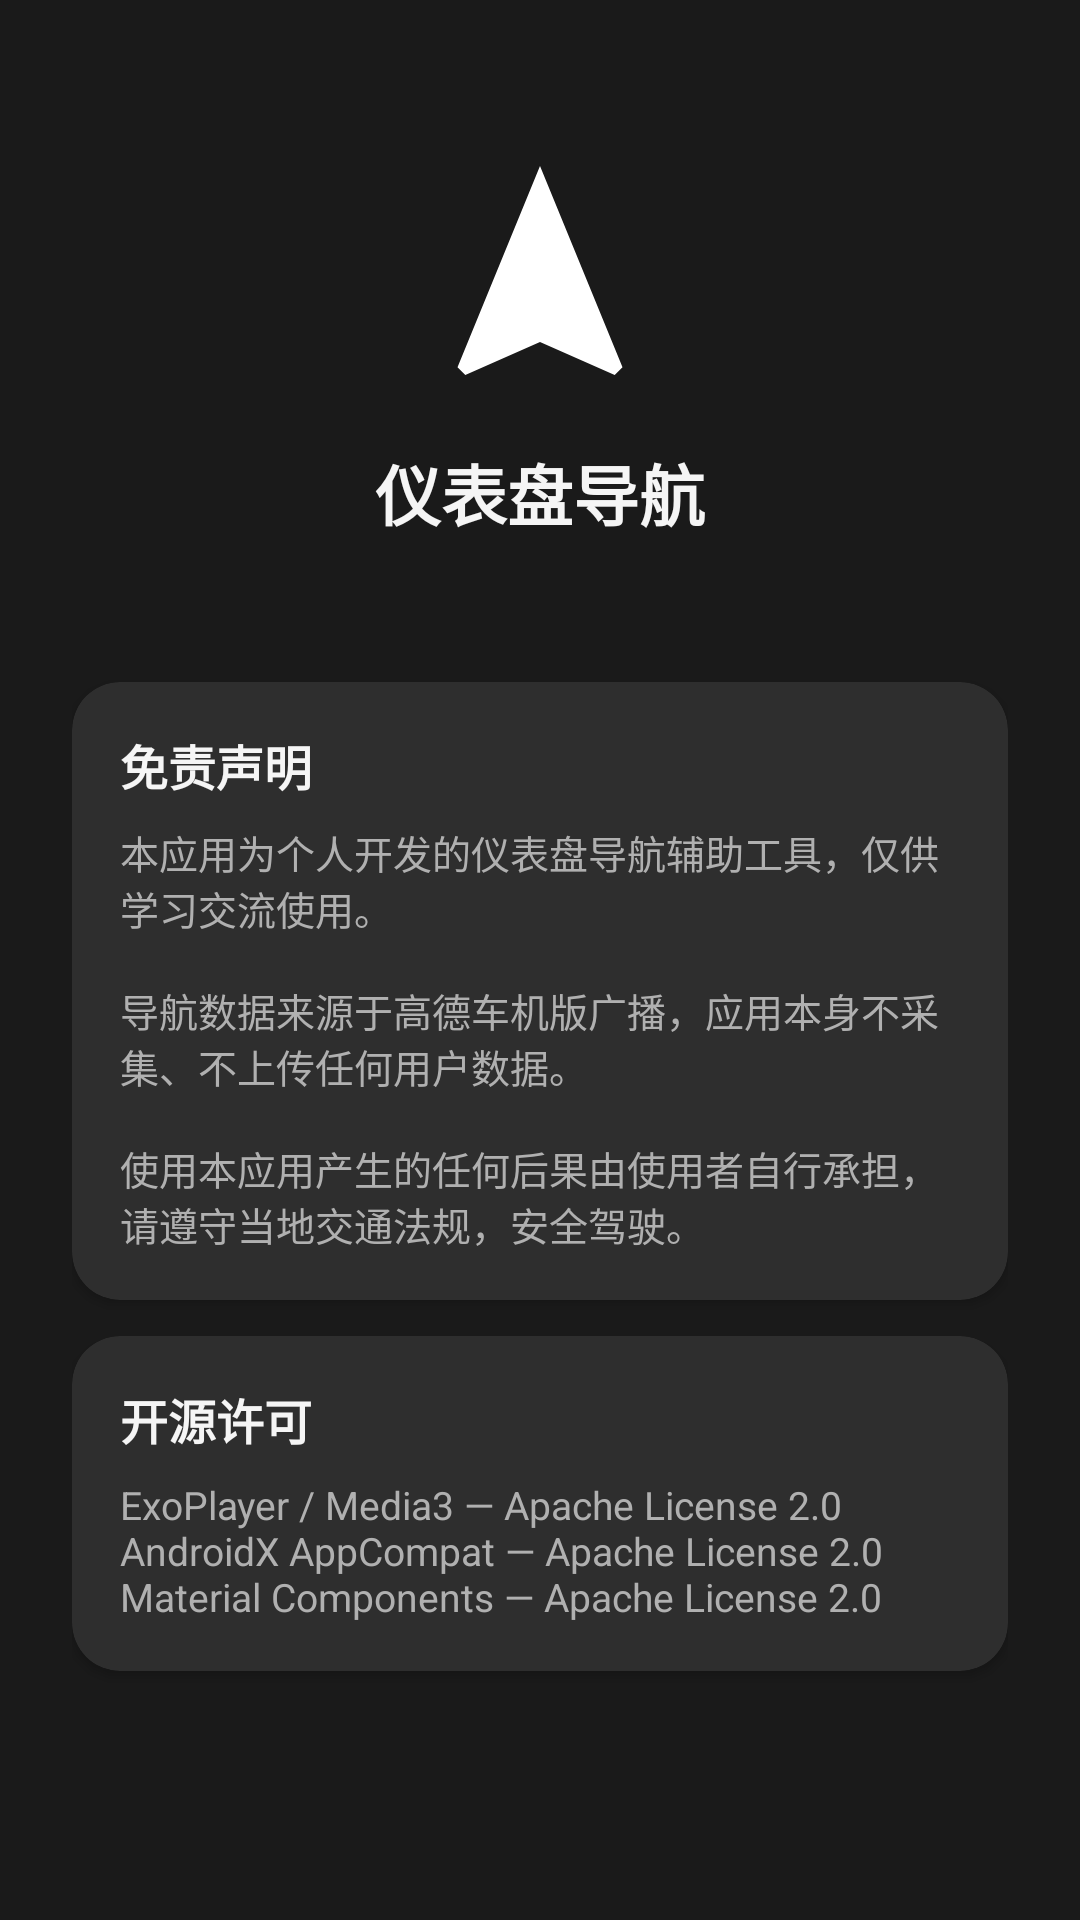

Where icons sit on this 1080x1920 app screen, as (x1, y1, x2, y2):
nav: (457, 166, 623, 375)
